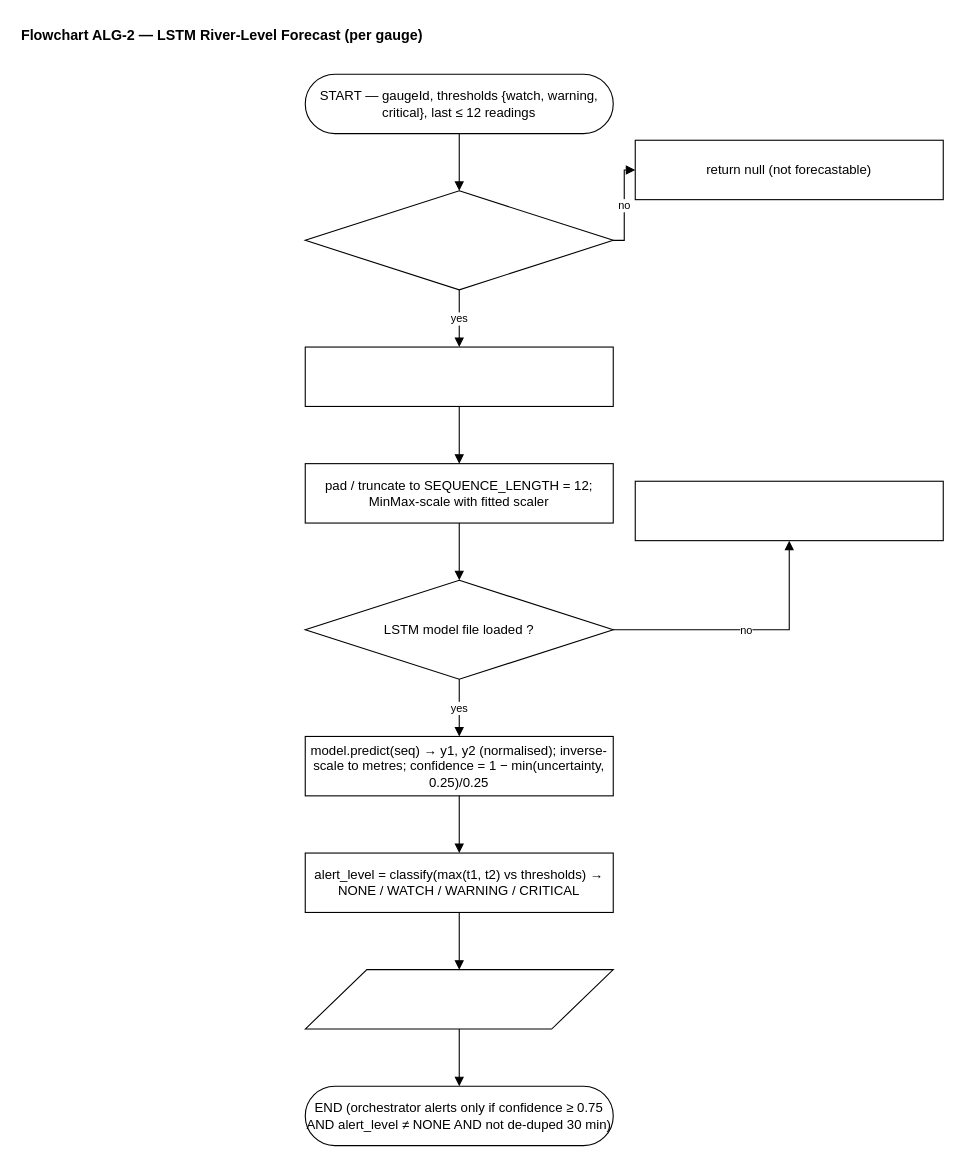
The diagram is 963 pixels wide and 1165 high, and some of its shapes have lost their labels. The box of each missing label's shape, as (x1, y1, x2, y2) in pixels:
build feature matrix; add rate_of_change = level[i] − level[i−1]: (304, 346, 613, 406)
readings ≥ 3 ?: (304, 190, 613, 290)
return { predicted_t1_m, predicted_t2_m, confidence, alert_level, reason }: (304, 969, 613, 1029)
rule-based linear extrapolation → t1, t2, confidence (documented fallback): (634, 480, 943, 541)
